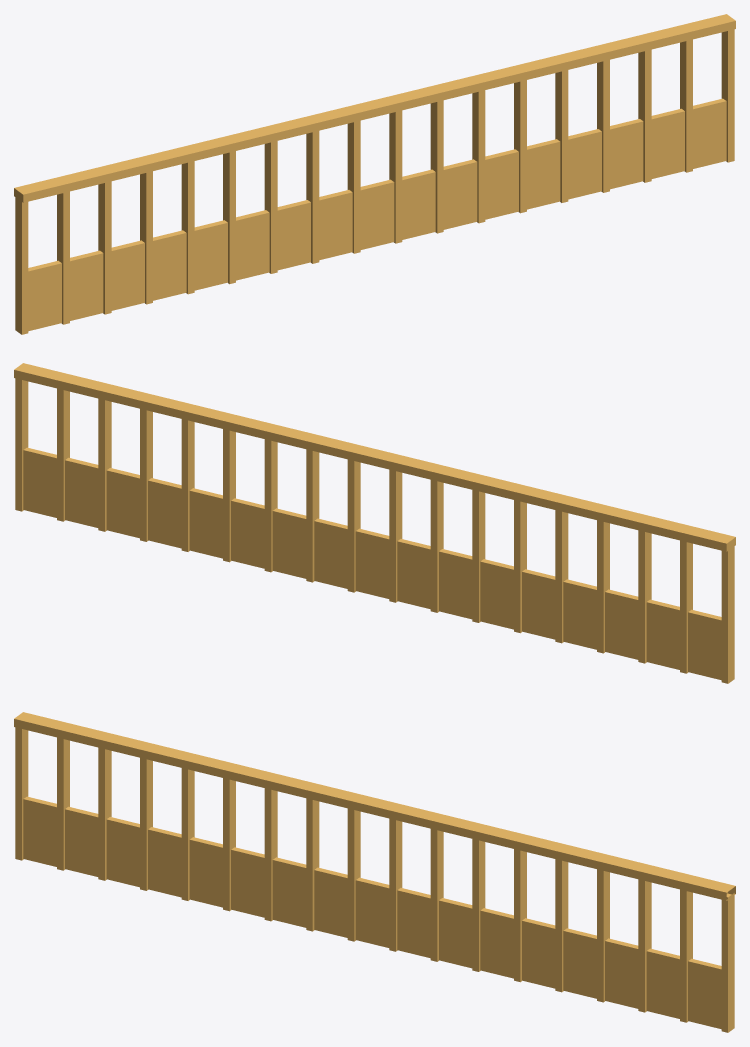
File: Partitions_022.glb
3 renders of one model, top to bottom at view 1: azimuth 30°, elevation 25°; view 2: azimuth 150°, elevation 25°; view 3: azimuth 330°, elevation 25°, orthographic.
Parts seen in each view (by area): view 1: Partitions_022; view 2: Partitions_022; view 3: Partitions_022.
Part boxes in pixels (x1,y1,x2,y2): Partitions_022: (14,14,735,334); Partitions_022: (14,363,735,683); Partitions_022: (14,712,735,1032).
Size of the model in its own units: 4 by 0.7575 by 0.0897.
1 material, 1 textured.
